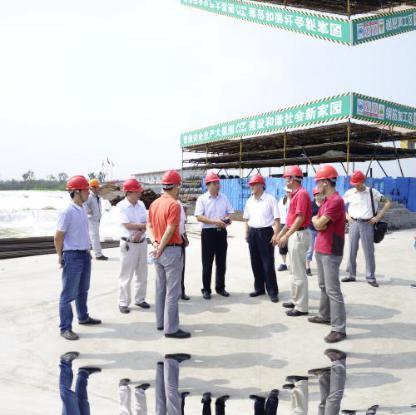helmet: (68, 173, 97, 196), (161, 164, 184, 189), (315, 164, 341, 185), (279, 163, 305, 181), (348, 166, 368, 187), (123, 178, 146, 196), (245, 173, 267, 190), (207, 171, 222, 186)
